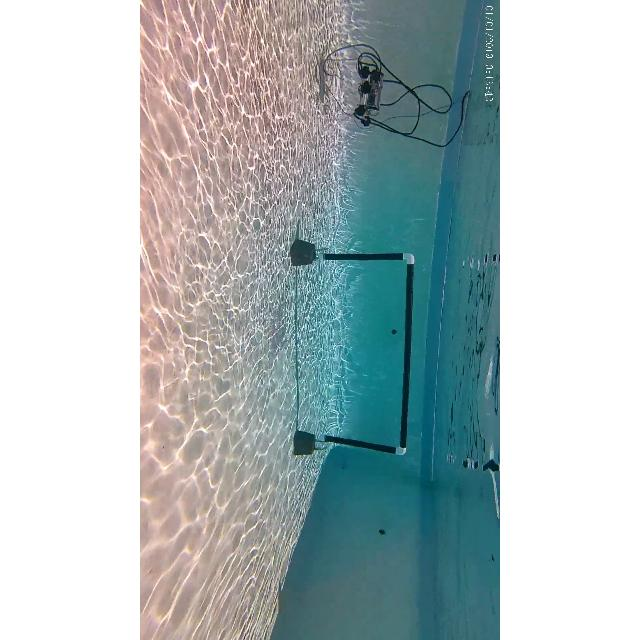prequal gate: (318, 253, 414, 455)
prequal gate leg l: (295, 238, 417, 270)
prequal gate leg r: (293, 424, 407, 466)
